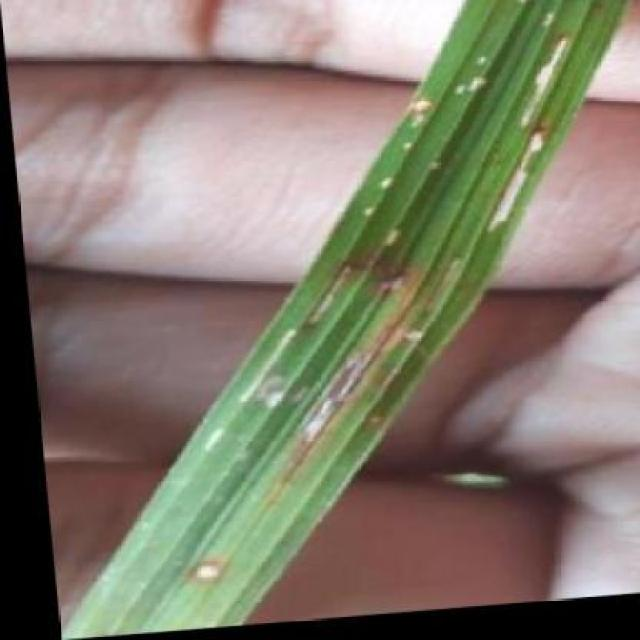Bacterial_Leaf_Blight: (241, 358, 390, 517), (260, 258, 358, 369), (147, 549, 228, 606)
